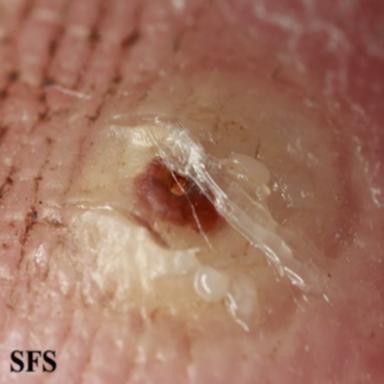Tungiasis: (17, 66, 349, 344)
